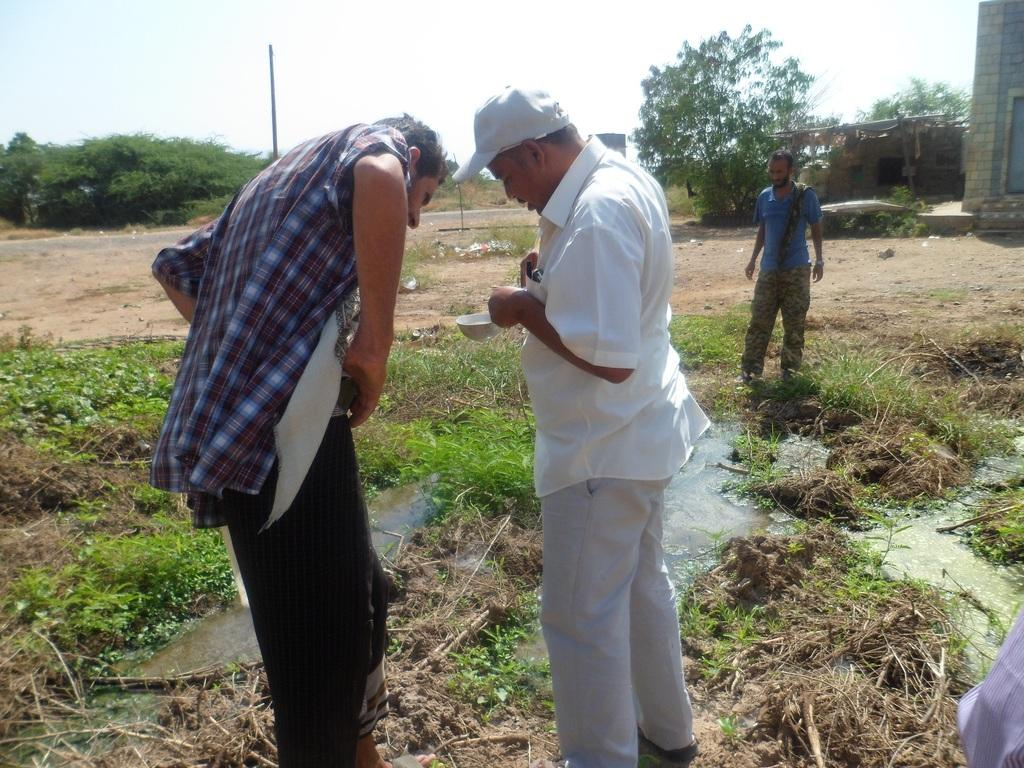Hat: (458, 88, 578, 172)
